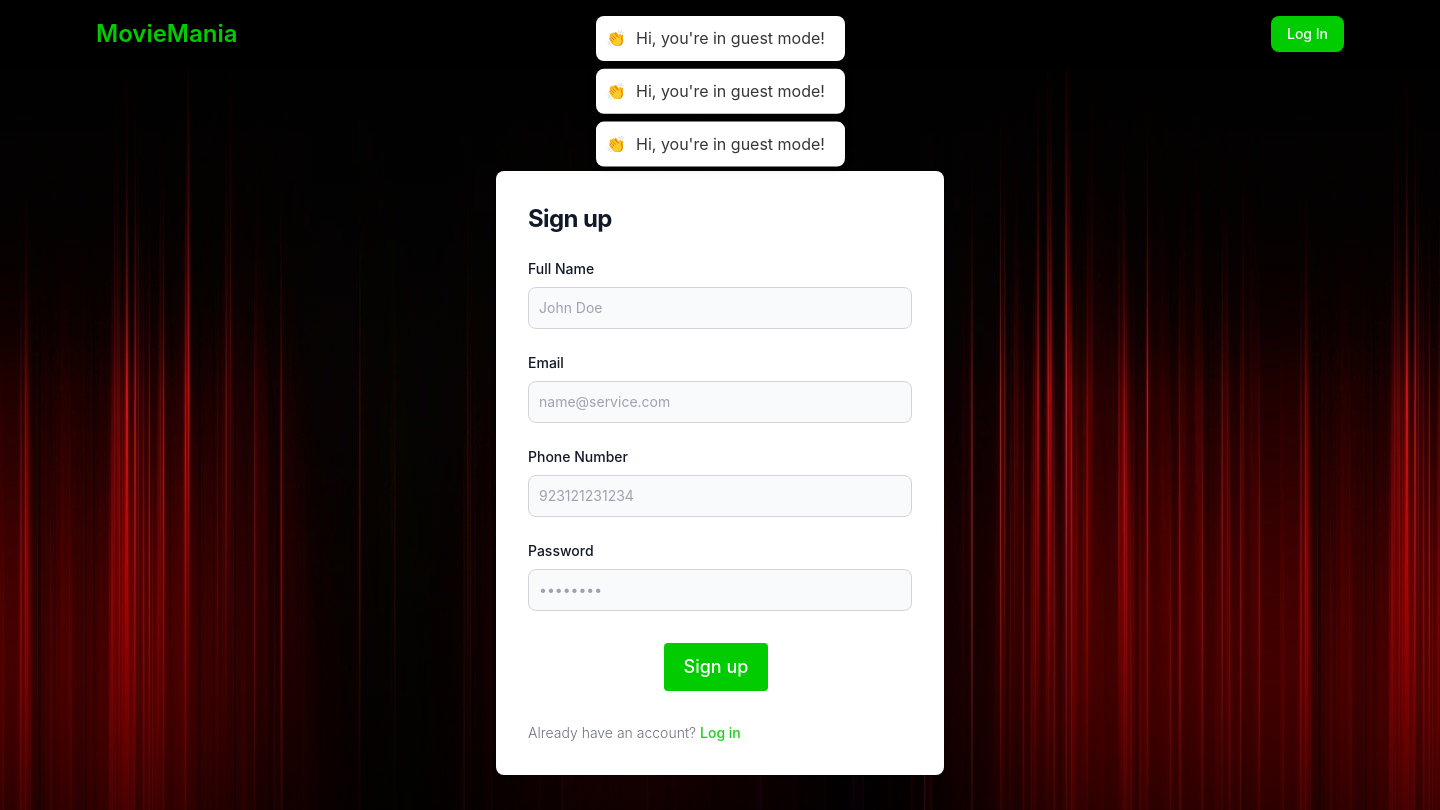
SignUp Component Unit and Functional Tests › form validation for missing password
In the field with placeholder "John Doe": (720, 308) [528,287,912,329], type "test@example.com"
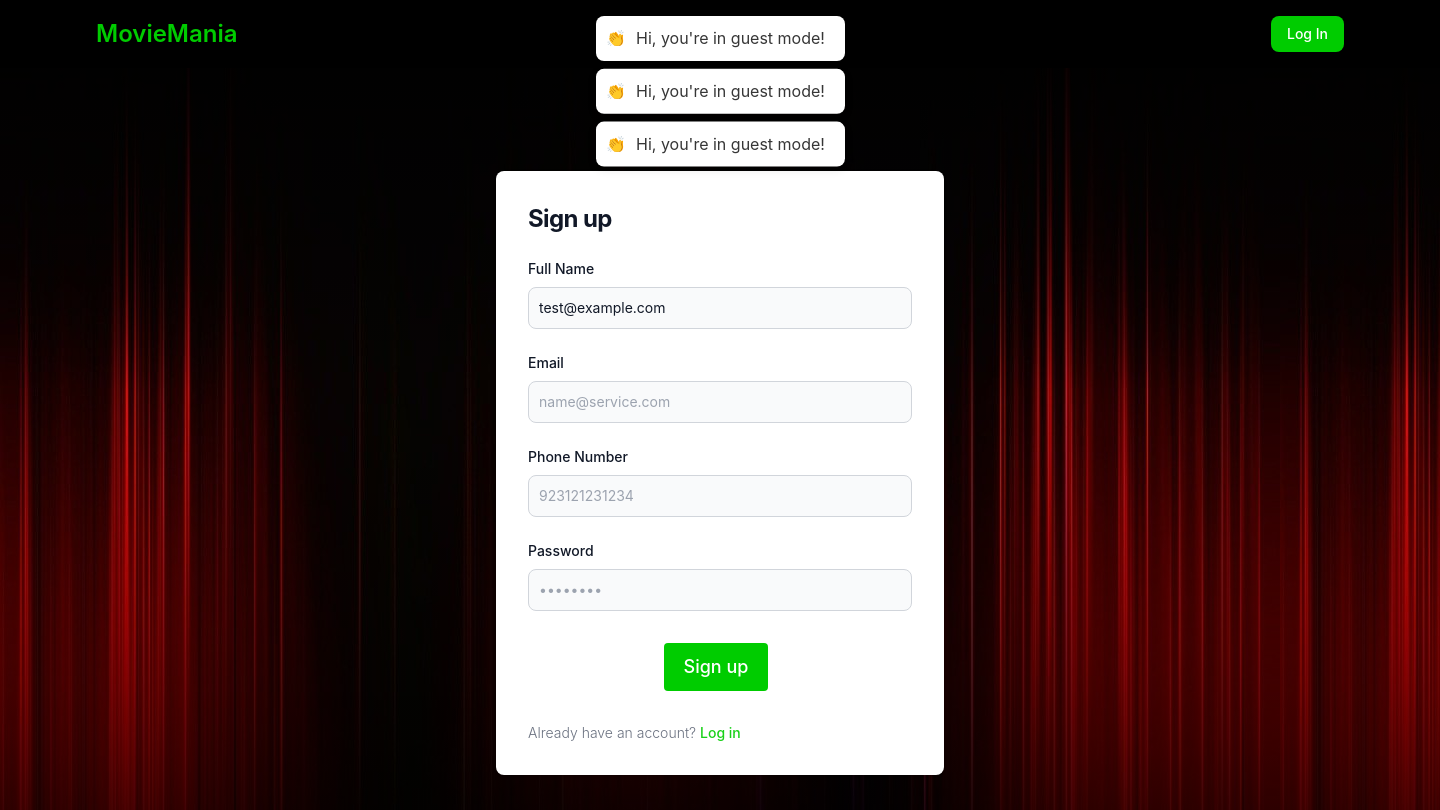
Click the button "Sign up": (716, 667) [664,643,768,691]
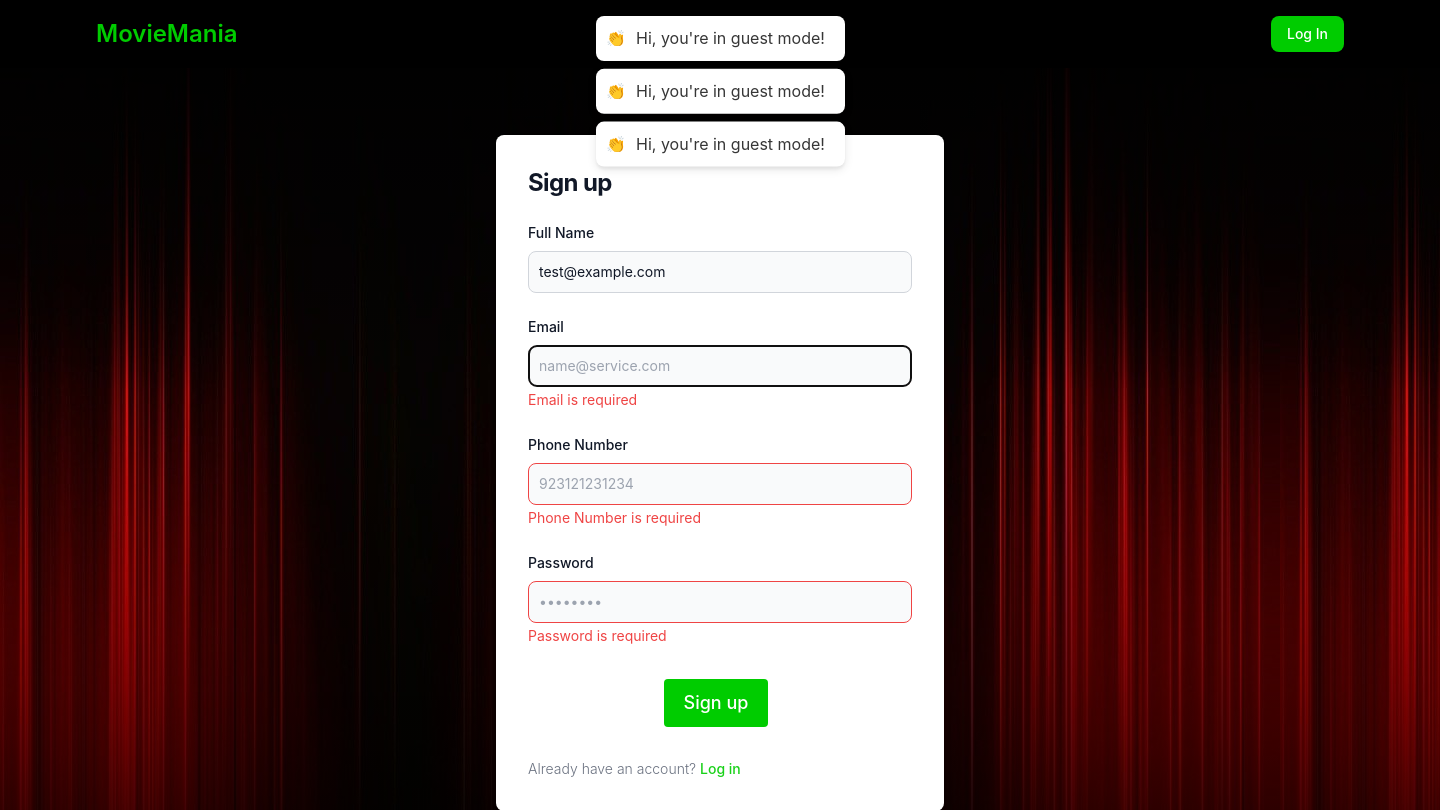
Expected: the text "Password is required" is shown, [528,627,667,644]
